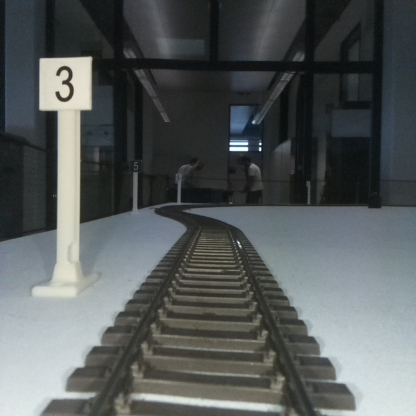white-info-3: (38, 56, 91, 296)
